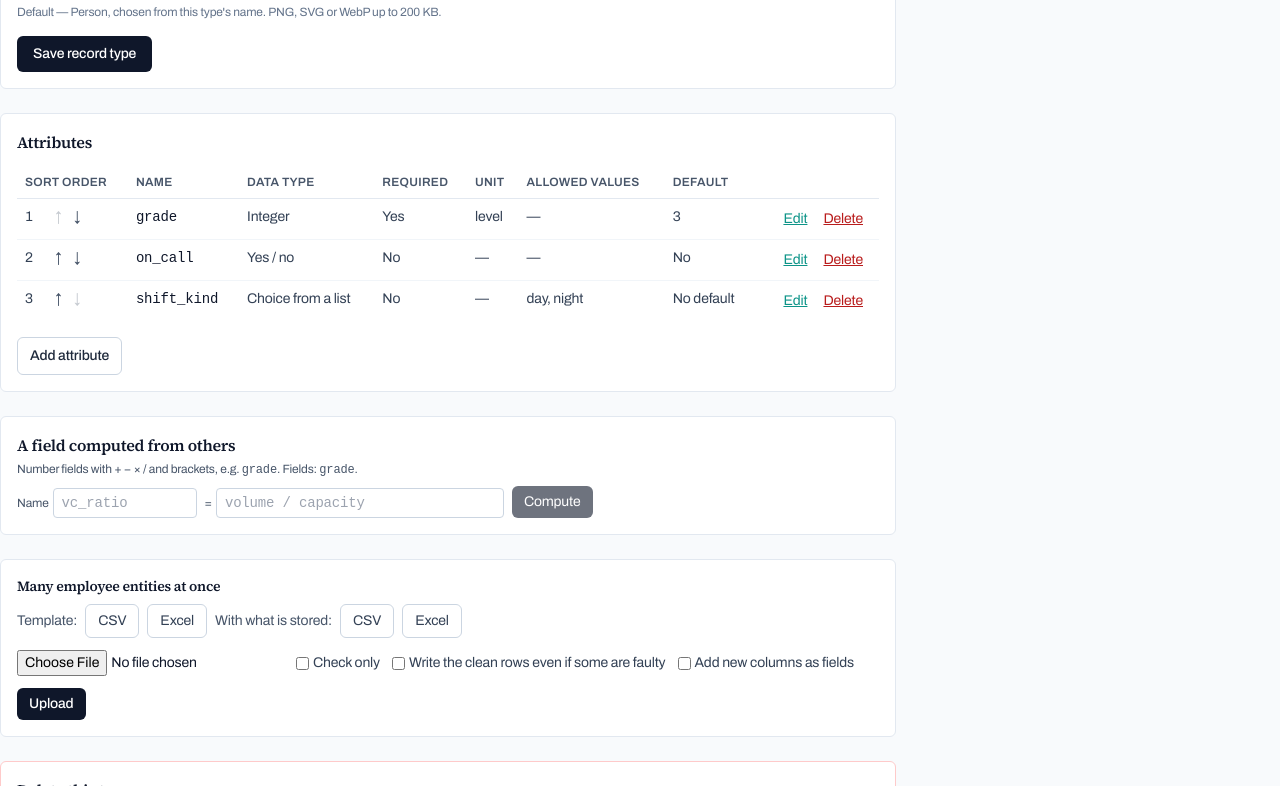
Test: EntityTypeDetail › adds an attribute to this type with a typed default
(page scrolled)
Click the button "Add attribute": (70, 356) [17,337,122,375]
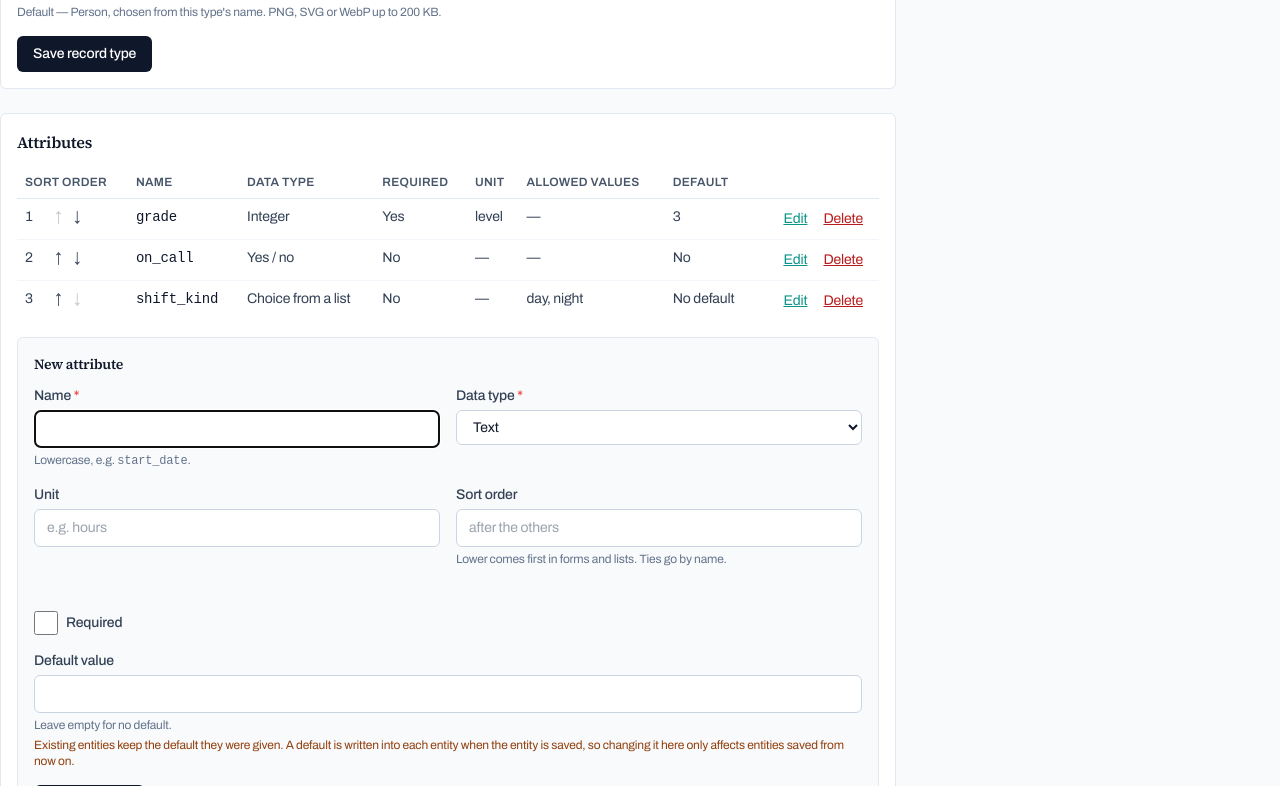
In the field labelled "Name *": (237, 429) [34,410,440,448], type "hours"
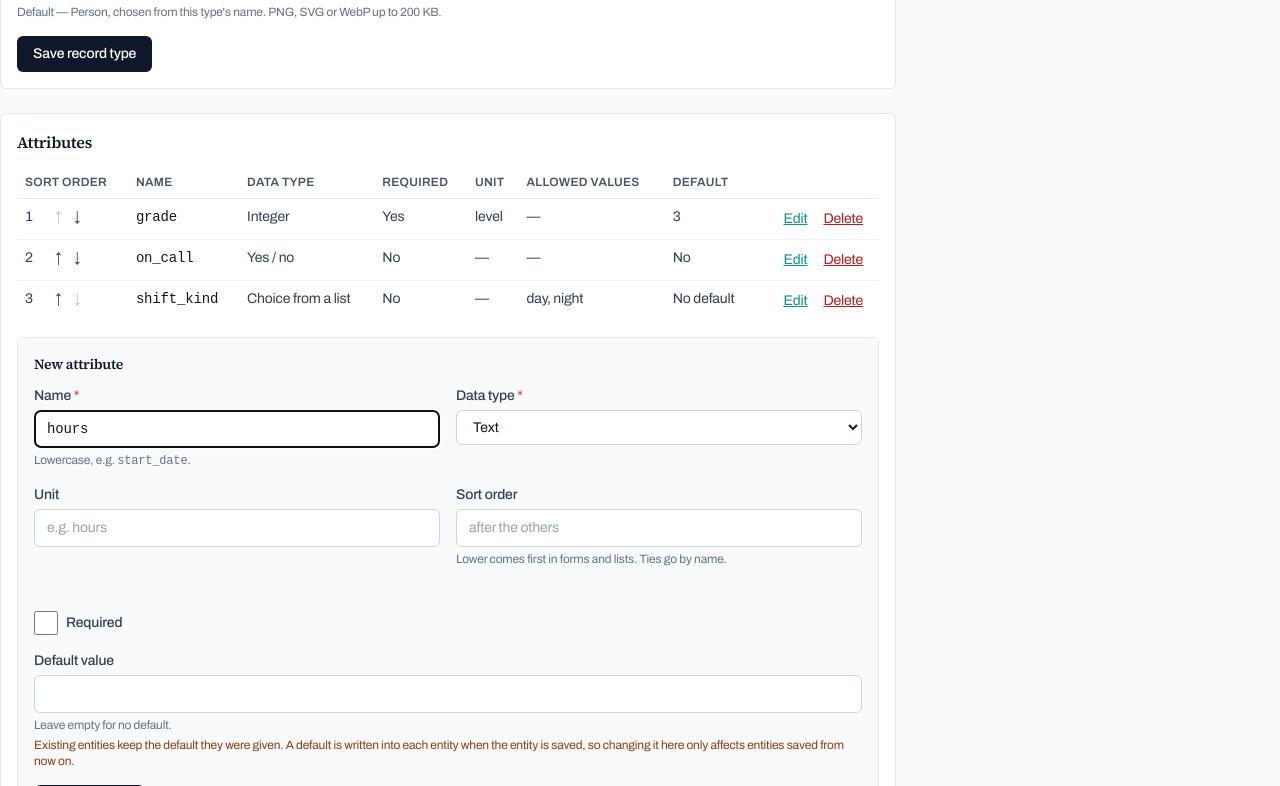
Select "Integer" in the dropdown labelled "Data type *": (659, 428) [456,410,862,445]
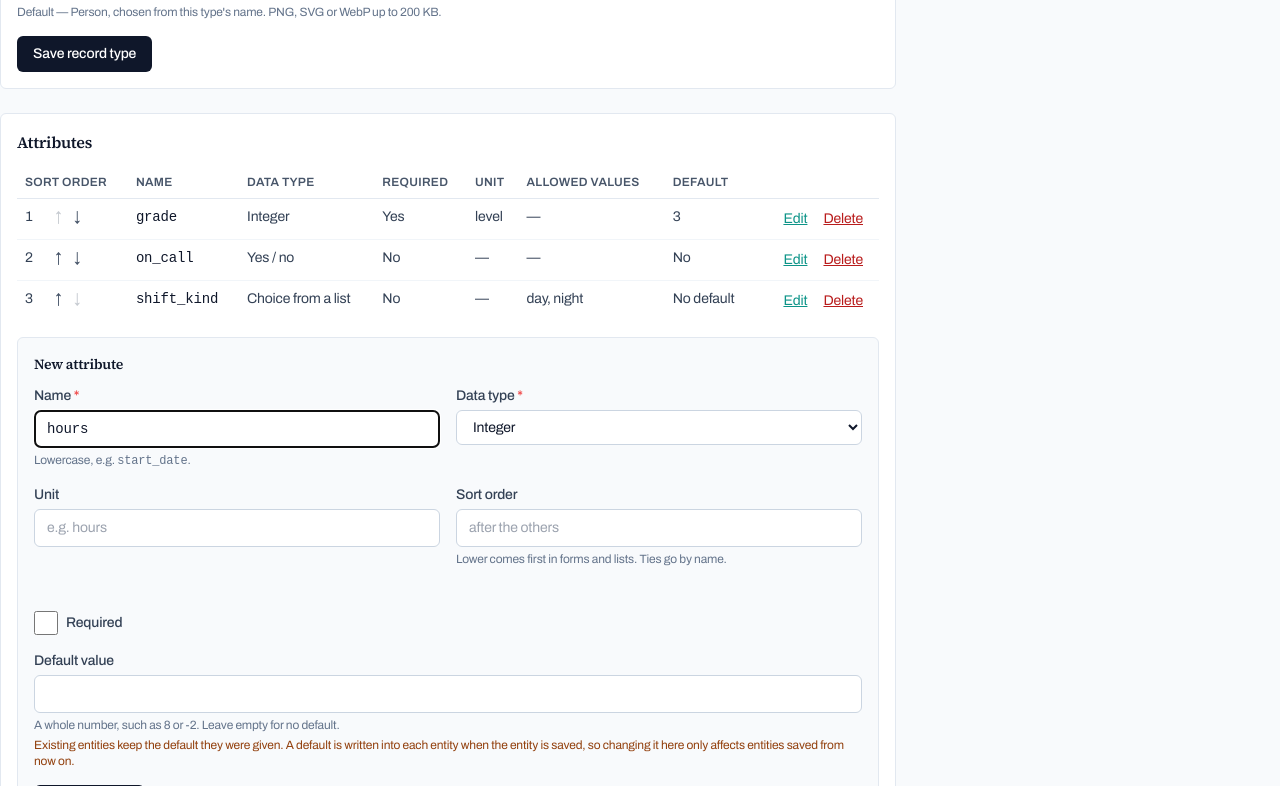
In the field labelled "Default value": (448, 694) [34,675,862,713], type "8"
(page scrolled)
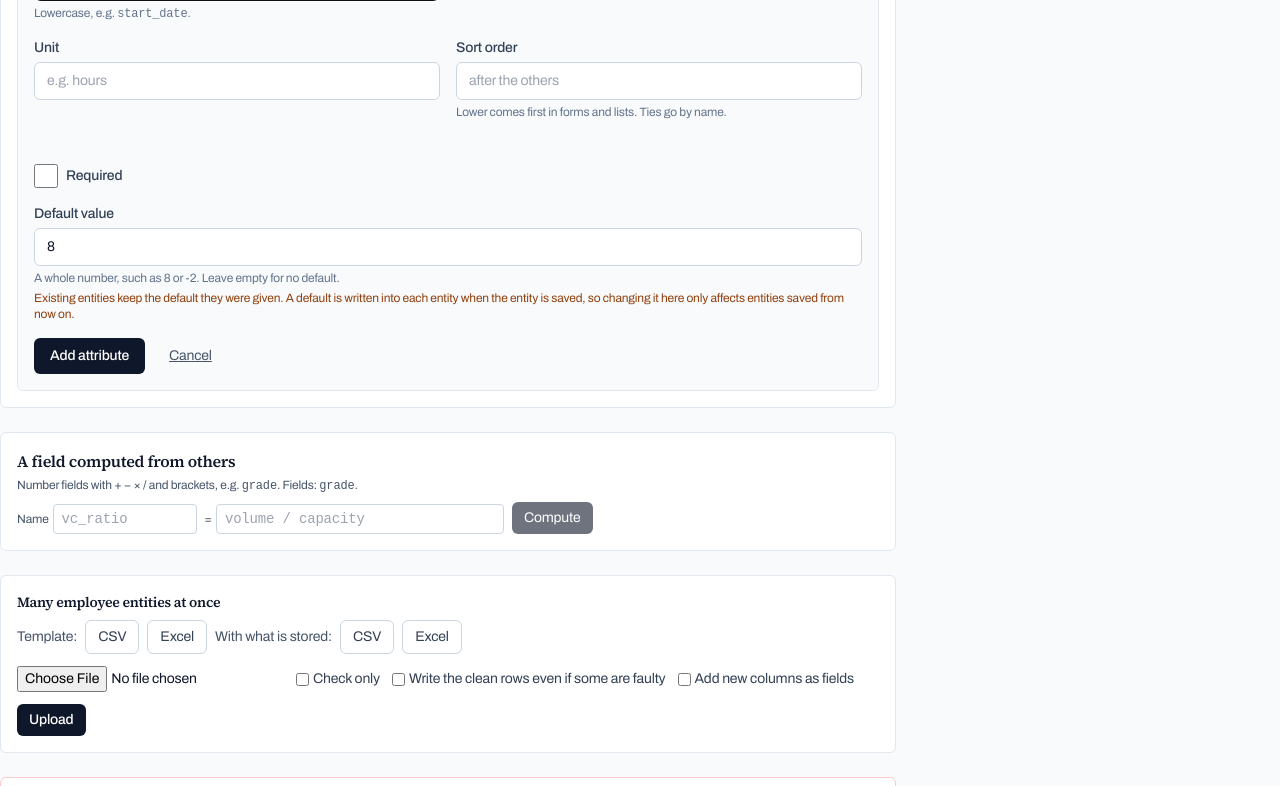
Click the button "Add attribute": (90, 356) [34,338,145,374]
(page scrolled)
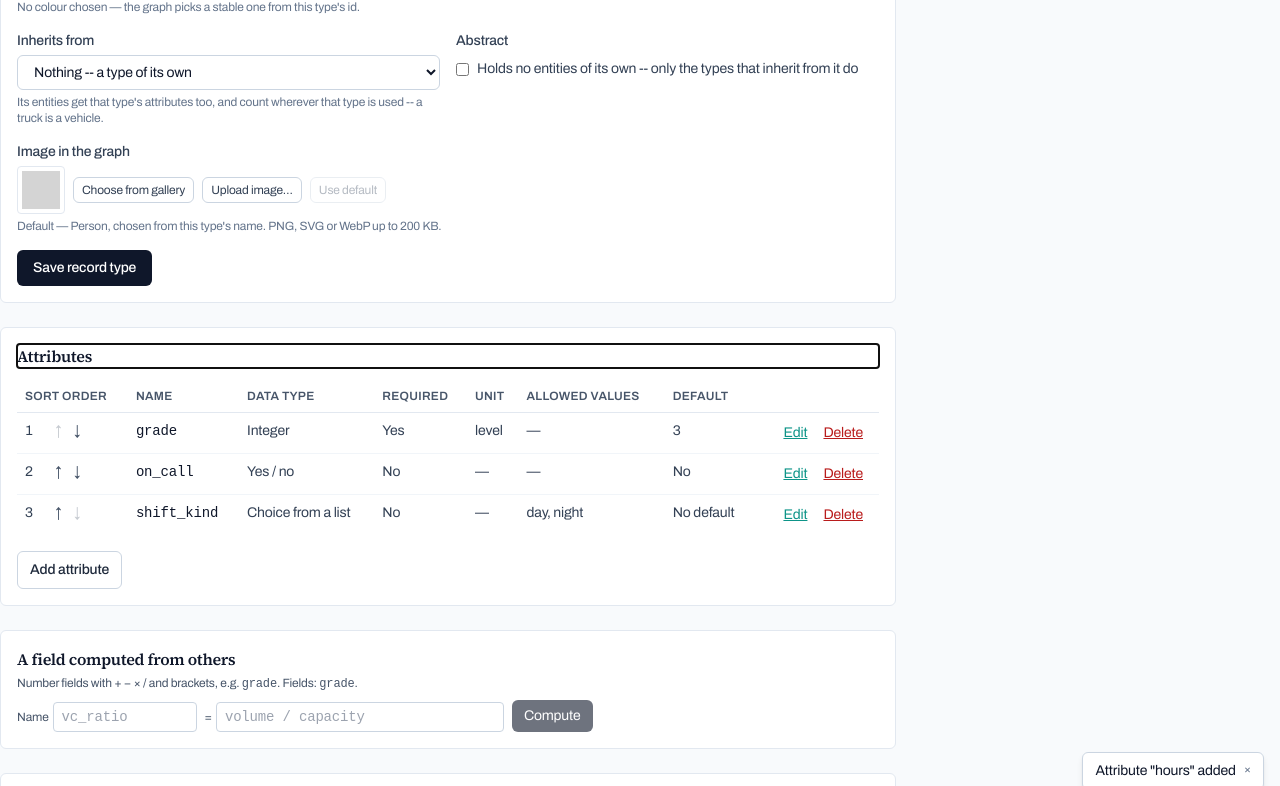
Now the message shows "Attribute \"hours\" added", box [1096,763,1236,778]
